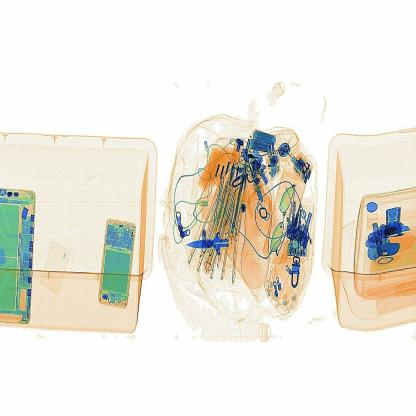gun: (187, 210, 249, 276)
